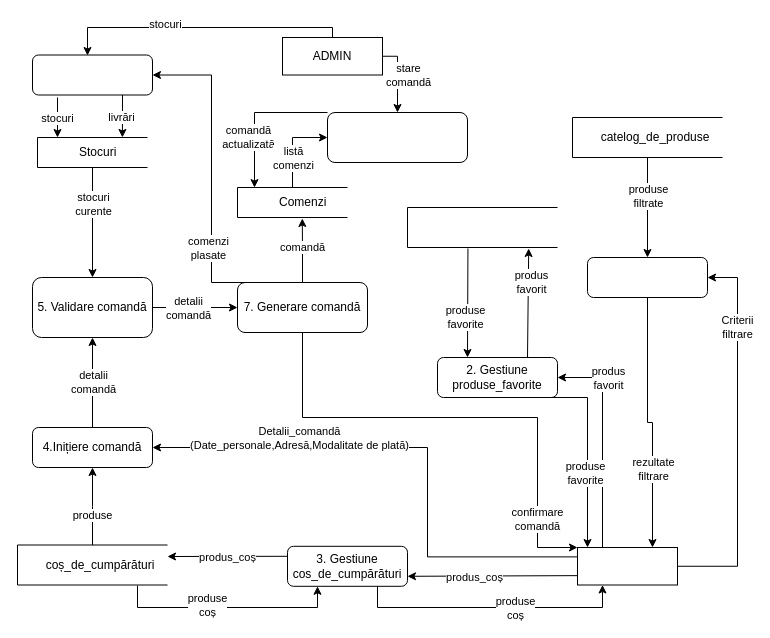
Some shapes in this 770 by 638 pixel diagram are drawn without their labels. The shapes that lost their labels are listed below. From the top down, each one's centre as x and y in pixels, then its label:
At [92,74]: "6.Gestiune_stocuri".
At [397,137]: "8. Actualizare comandă".
At [482,227]: "produse_favorite".
At [647,277]: "1.Filtrare produse".
At [627,565]: "USER".
